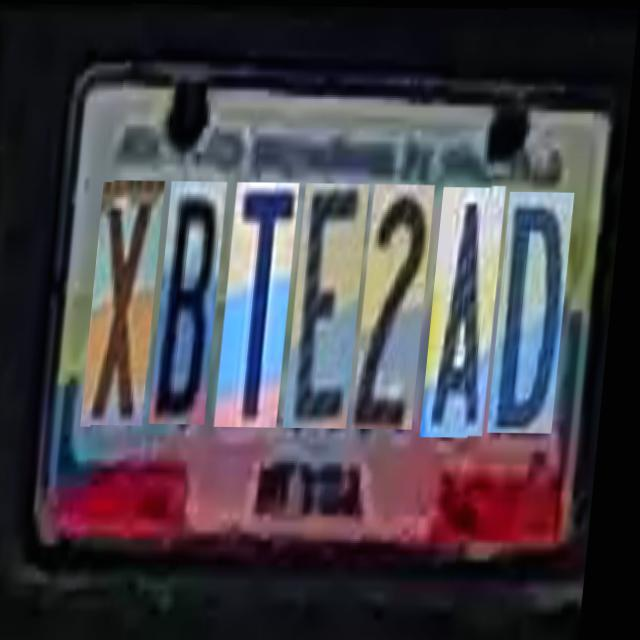2: (359, 183, 438, 428)
A: (428, 186, 510, 437)
B: (157, 180, 231, 424)
D: (496, 192, 578, 434)
E: (291, 182, 373, 427)
T: (222, 182, 303, 426)
X: (88, 180, 168, 425)
